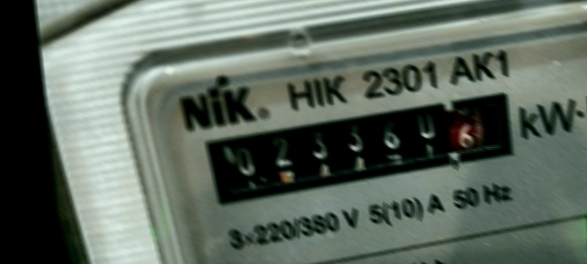0: (231, 140, 256, 177), (411, 107, 437, 140)
2: (269, 131, 293, 166)
3: (342, 117, 364, 151), (305, 127, 327, 159)
6: (452, 115, 477, 150), (377, 115, 401, 150)
screen: (186, 80, 532, 211)
